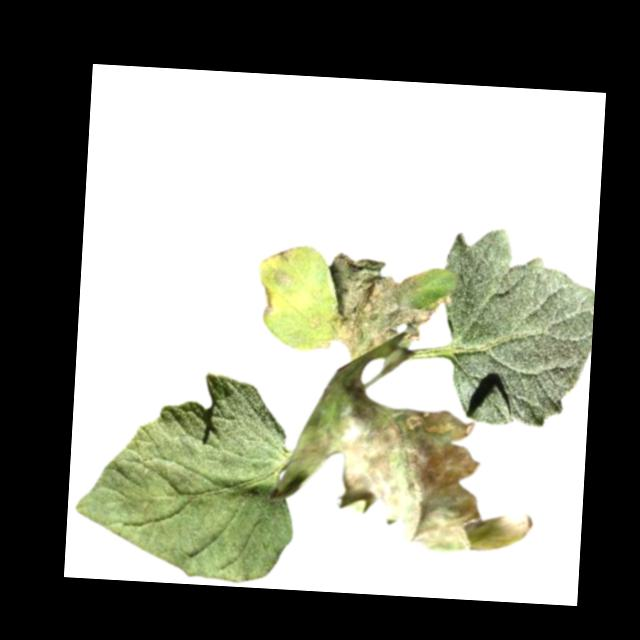Late_blight: (266, 397, 540, 558), (323, 253, 447, 365), (258, 286, 279, 315), (273, 271, 297, 290)
healthy: (72, 364, 301, 585), (438, 225, 594, 431)
